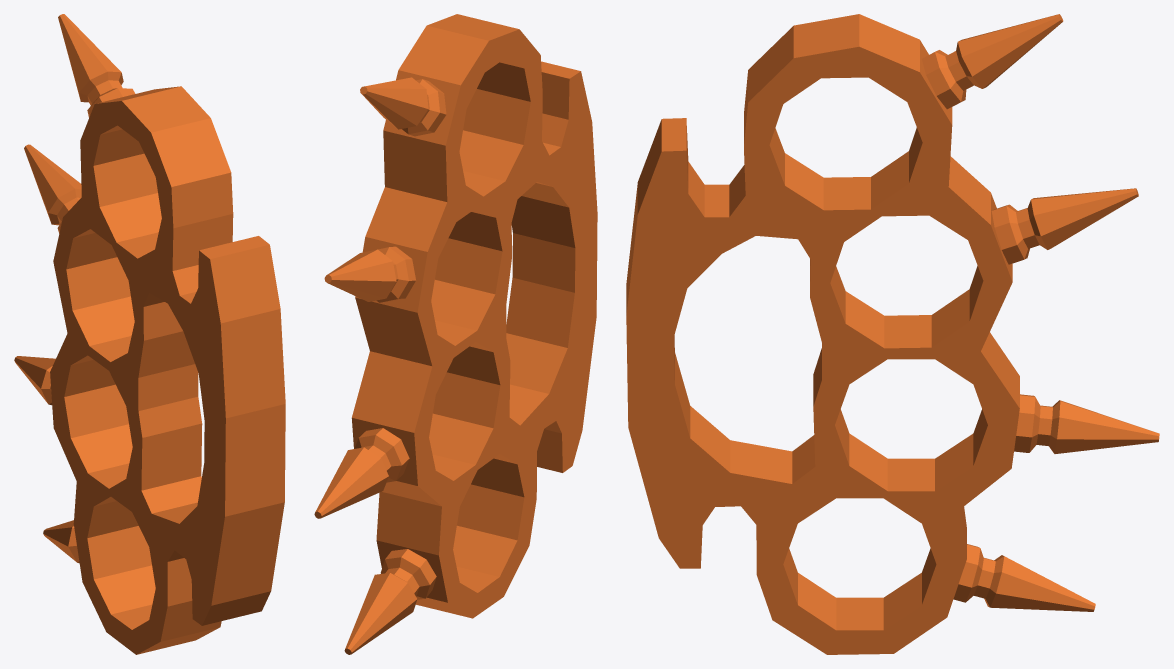
The model's file is Knuckle.fbx.
3 renders of one model, left to right at view 1: azimuth 30°, elevation 25°; view 2: azimuth 150°, elevation 25°; view 3: azimuth 270°, elevation 25°, orthographic. The views are drawn at different scales.
Visible parts, largest first — view 1: Knuckle; view 2: Knuckle; view 3: Knuckle.
Part boxes in pixels (left/top/right/bottom): Knuckle: left=14, top=14, right=285, bottom=654; Knuckle: left=314, top=14, right=597, bottom=654; Knuckle: left=626, top=14, right=1159, bottom=654.
Size of the model in its own units: 2.1 by 18.68 by 14.46.
